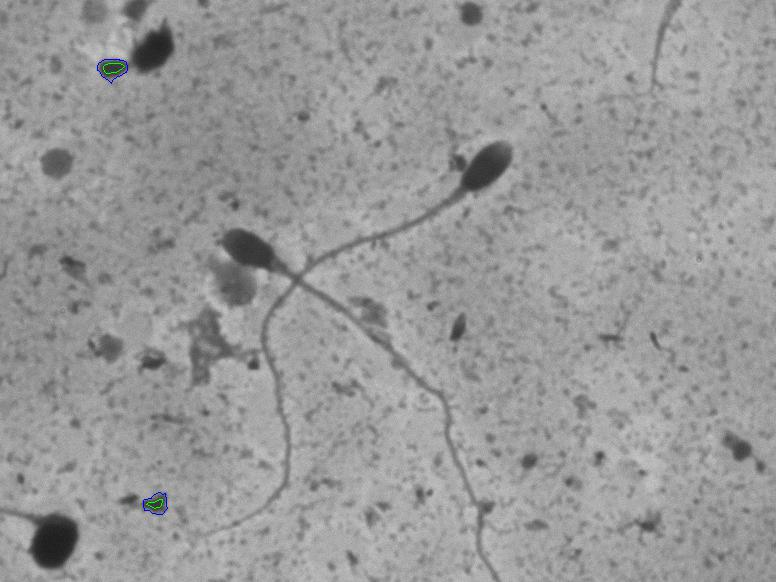Normal: (173, 118, 541, 550), (209, 214, 511, 571)
